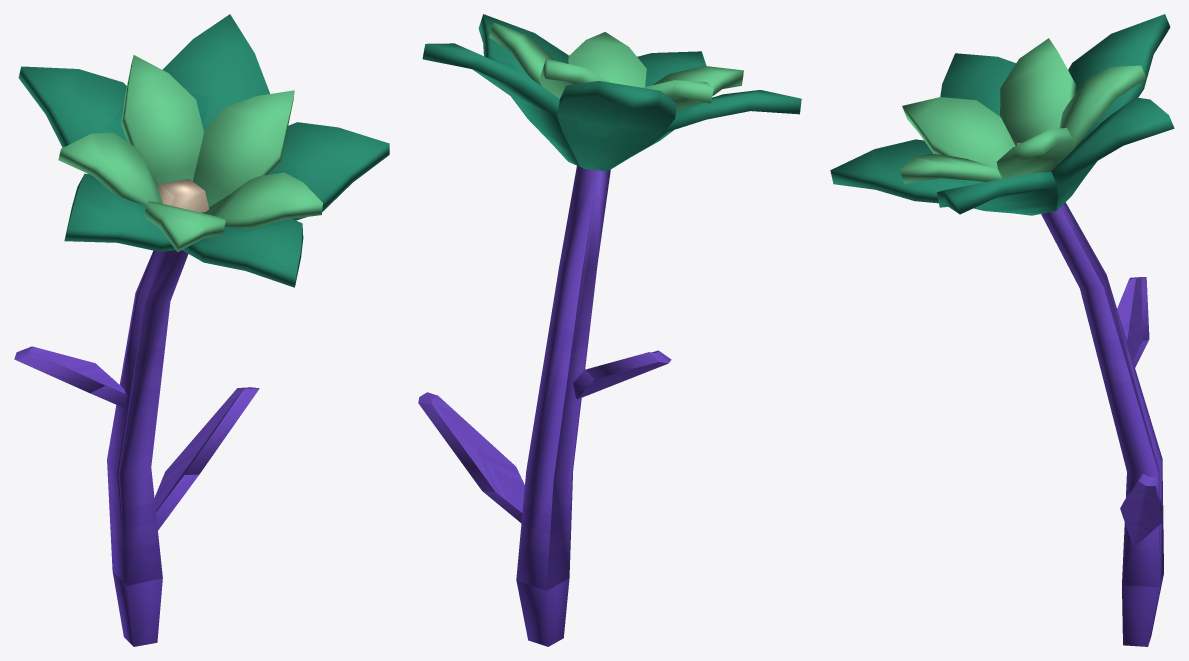
The model's file is planta scan.glb.
3 renders of one model, left to right at view 1: azimuth 30°, elevation 25°; view 2: azimuth 150°, elevation 25°; view 3: azimuth 270°, elevation 25°, orthographic. The views are drawn at different scales.
Parts seen in each view (by area): view 1: flowers-tall.003; view 2: flowers-tall.003; view 3: flowers-tall.003.
Boxes of the visible parts, x1,y1,x2,y2 form: flowers-tall.003: (14, 14, 389, 646); flowers-tall.003: (418, 14, 801, 646); flowers-tall.003: (830, 14, 1174, 646).
Size of the model in its own units: 0.6223 by 1.08 by 0.5826.
Materials: 2 (2 with a texture image).
